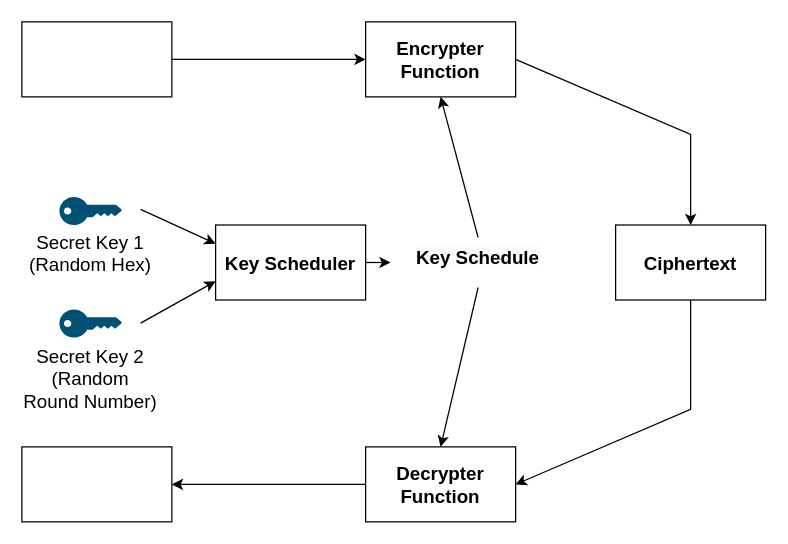
This 788x544 diagram has some shape labels left out. The shapes that lost their labels are listed below. From the top down, each one's box as (x1, y1, x2, y2) in pixels, then its label:
(21, 21, 172, 97): Plaintext
(21, 446, 172, 522): Decrypted Text
